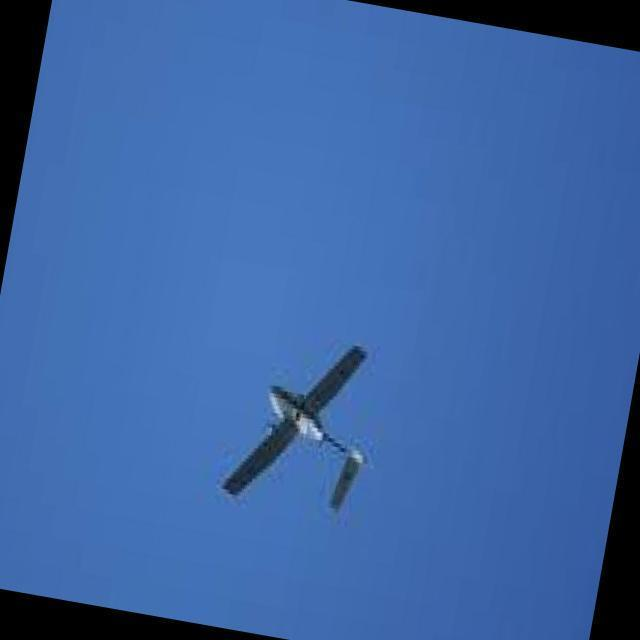iha: (160, 324, 384, 512)
